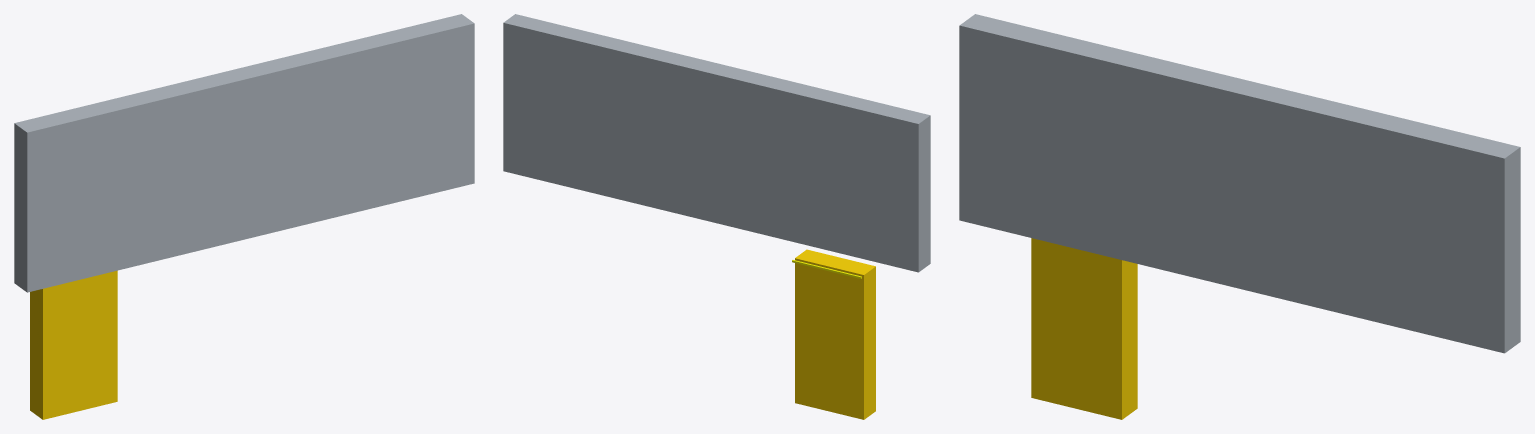
Rendered from Chữ inox vàng gương 304.obj.
3 renders of one model, left to right at view 1: azimuth 30°, elevation 25°; view 2: azimuth 150°, elevation 25°; view 3: azimuth 330°, elevation 25°, orthographic. The views are drawn at different scales.
Visible parts, largest first — view 1: khoi, chu_noi_3d; view 2: khoi, chu_noi_3d; view 3: khoi, chu_noi_3d.
Boxes of the visible parts, x1,y1,x2,y2 form: khoi: (14, 14, 474, 292); chu_noi_3d: (30, 270, 117, 419); khoi: (503, 14, 930, 272); chu_noi_3d: (795, 249, 875, 419); khoi: (959, 14, 1520, 353); chu_noi_3d: (1031, 238, 1137, 419).
Size of the model in its own units: 1.2 by 0.8 by 0.175.
